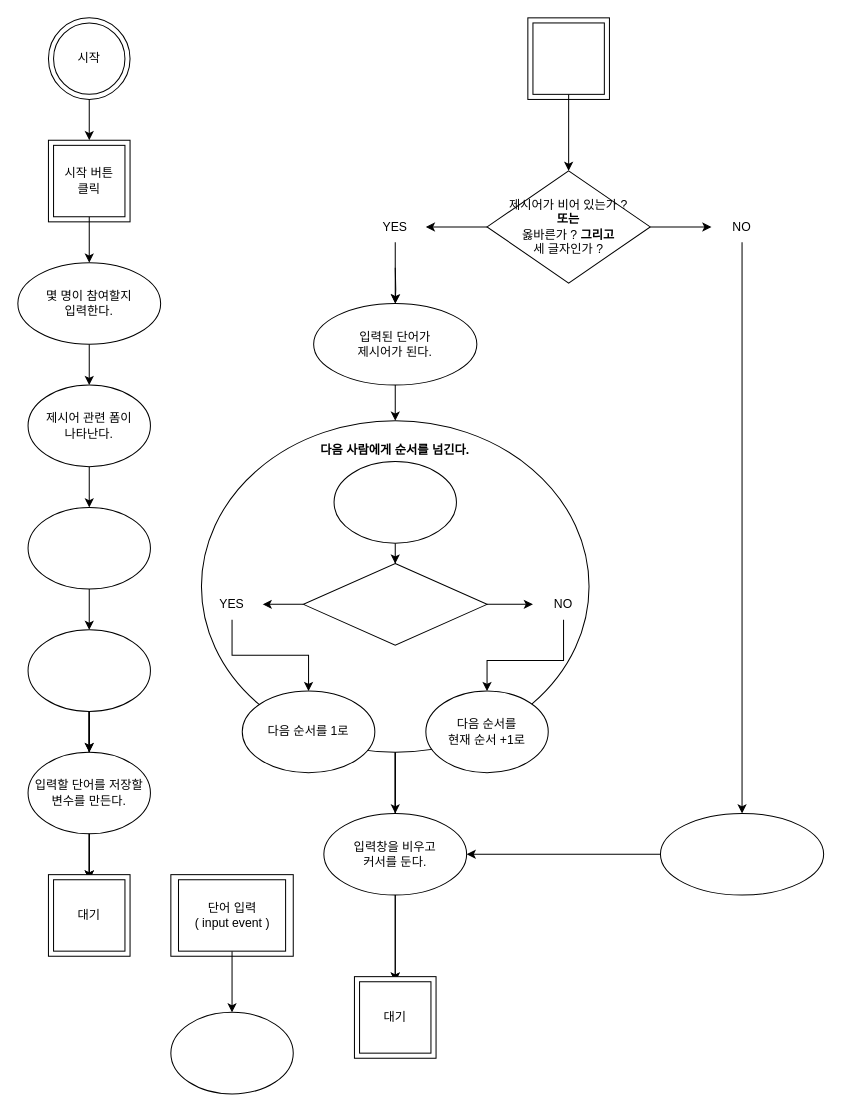
The diagram is 842 pixels wide and 1112 high, and some of its shapes have lost their labels. Each missing label, with the centre of its shape:
입력 버튼 클릭: the point at 568,58
입력한 단어를 저장한다.: the point at 231,1052
제시어를 저장할 변수를 만든다.: the point at 88,670
참가자 순서를 정한다.: the point at 88,547
틀렸다고 표시한다.: the point at 741,853
현재 순서를 파악한다.: the point at 394,502
현재순서에 1을 더한 값이 number보다 큰가 ?: the point at 394,604
